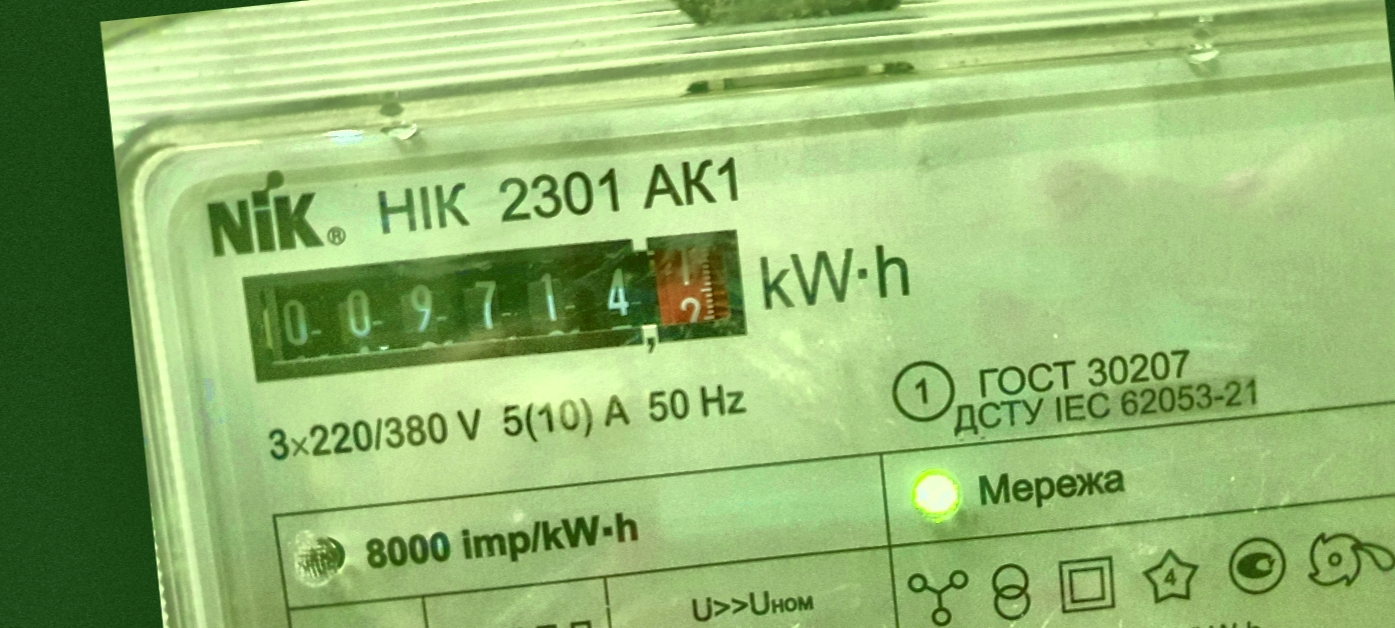0: (276, 293, 311, 349), (341, 283, 372, 339)
1: (534, 266, 562, 324), (673, 244, 692, 288)
2: (675, 291, 702, 324)
4: (599, 263, 632, 320)
7: (470, 276, 501, 332)
9: (403, 279, 436, 334)
screen: (225, 208, 764, 404)
